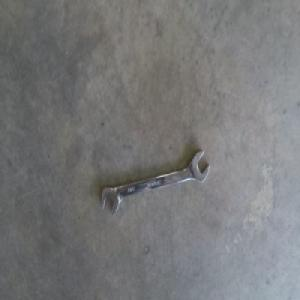Wrench: (101, 152, 209, 218)
